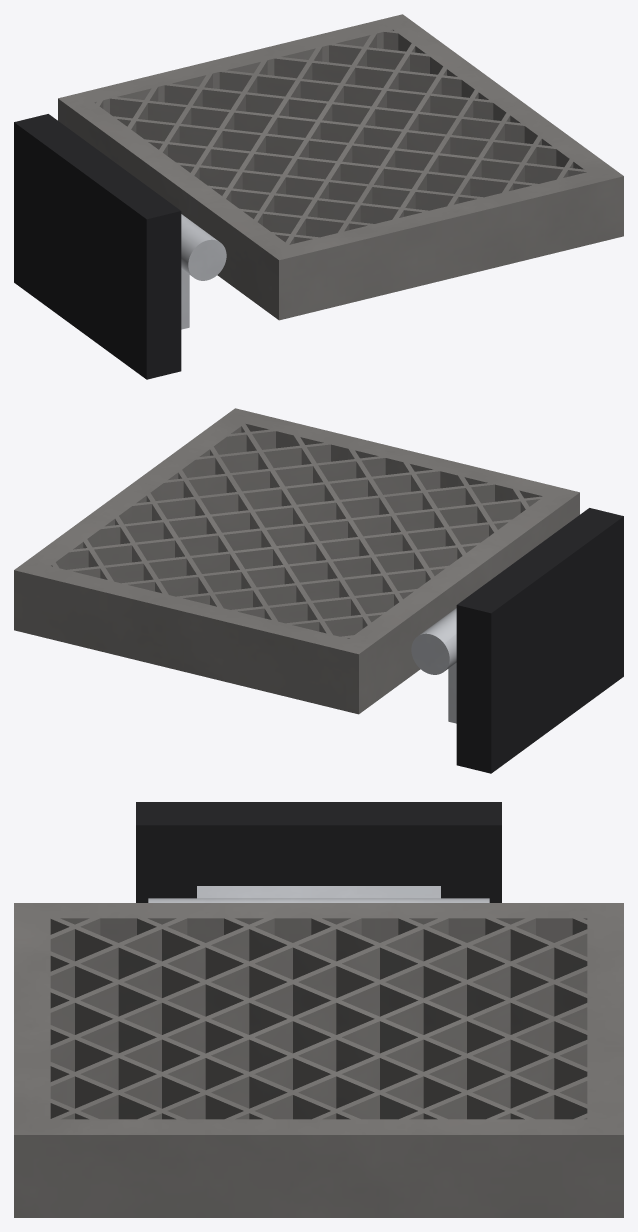
The model's file is stage10_grid_fin_m_deployed.glb.
3 renders of one model, top to bottom at view 1: azimuth 30°, elevation 25°; view 2: azimuth 150°, elevation 25°; view 3: azimuth 270°, elevation 25°, orthographic. The views are drawn at different scales.
Parts seen in each view (by area): view 1: lattice_panel, mount_plate, hinge; view 2: lattice_panel, mount_plate, hinge; view 3: lattice_panel, mount_plate, hinge.
Part boxes in pixels (bbox=[...]): lattice_panel: bbox=[58, 14, 623, 320]; mount_plate: bbox=[14, 114, 181, 379]; hinge: bbox=[181, 214, 226, 329]; lattice_panel: bbox=[14, 408, 579, 714]; mount_plate: bbox=[456, 508, 623, 773]; hinge: bbox=[411, 608, 456, 723]; lattice_panel: bbox=[14, 903, 623, 1217]; mount_plate: bbox=[136, 802, 501, 902]; hinge: bbox=[148, 886, 489, 902].
Bounding box in the file's own units: 1.13 × 0.4 × 1.
Materials: 3 (2 with a texture image).
